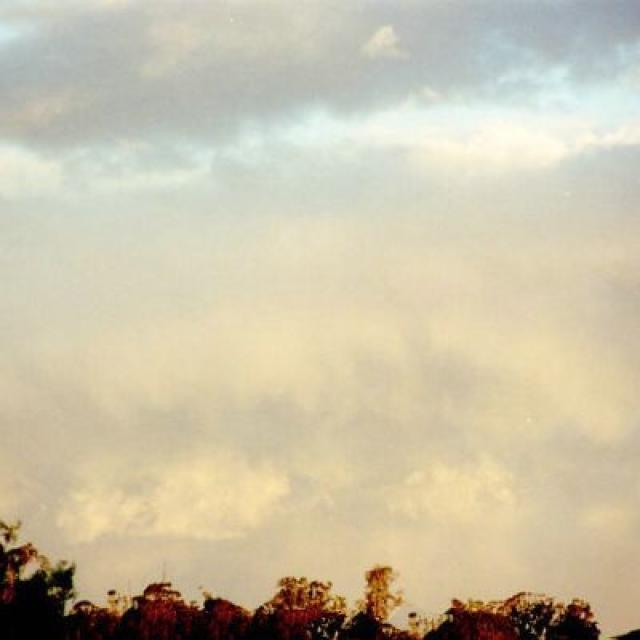Ns: (28, 39, 640, 489)
